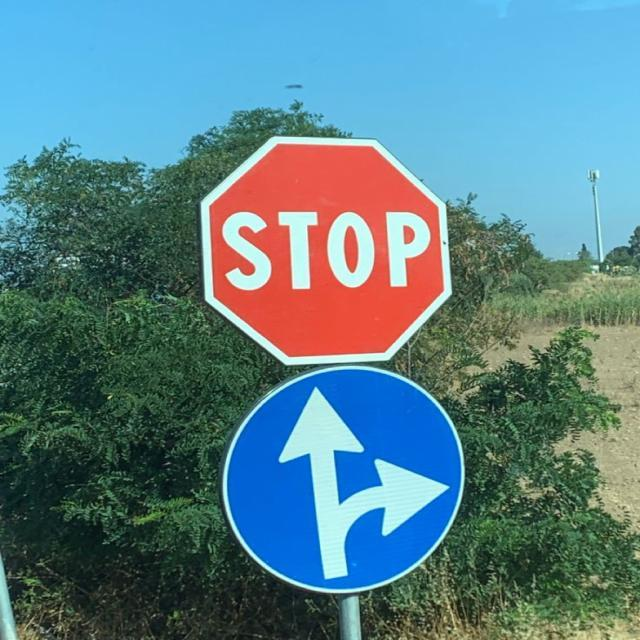stop: (198, 134, 453, 366)
